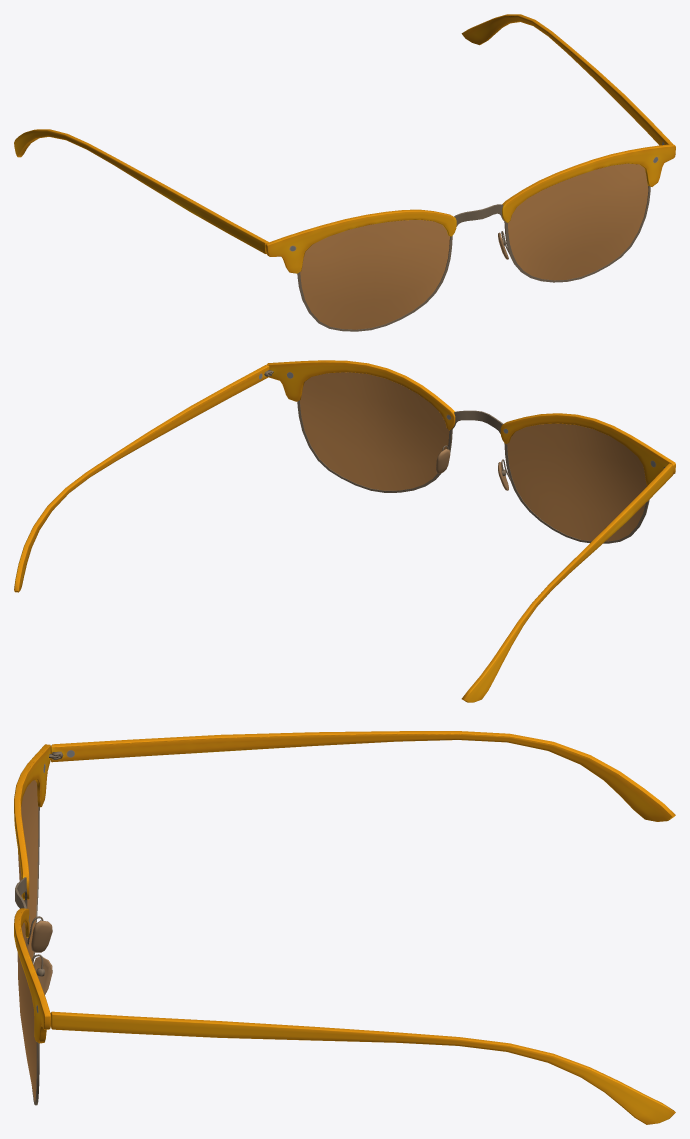
The model's file is glasses-2.glb.
3 renders of one model, top to bottom at view 1: azimuth 30°, elevation 25°; view 2: azimuth 150°, elevation 25°; view 3: azimuth 270°, elevation 25°, orthographic. The views are drawn at different scales.
Parts seen in each view (by area): view 1: Glasses_silver; view 2: Glasses_silver; view 3: Glasses_silver.
Boxes of the visible parts, bbox=[...] form: Glasses_silver: bbox=[14, 14, 675, 331]; Glasses_silver: bbox=[14, 360, 675, 702]; Glasses_silver: bbox=[14, 731, 675, 1124].
Bounding box in the file's own units: 0.1637 × 0.0395 × 0.145.
Materials: 1 (1 with a texture image).
